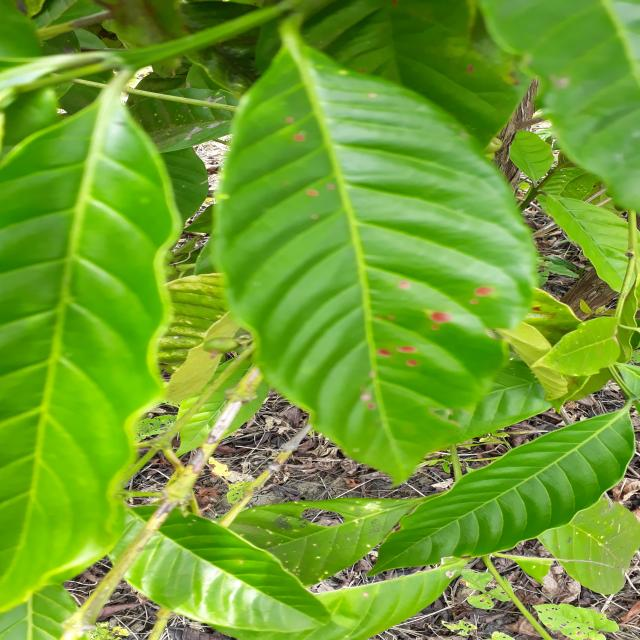Plaga-AranaRoja: (212, 28, 540, 486)
